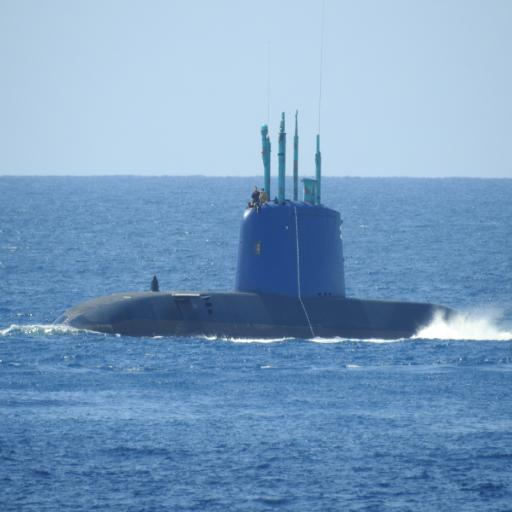submarine: (51, 107, 490, 330)
